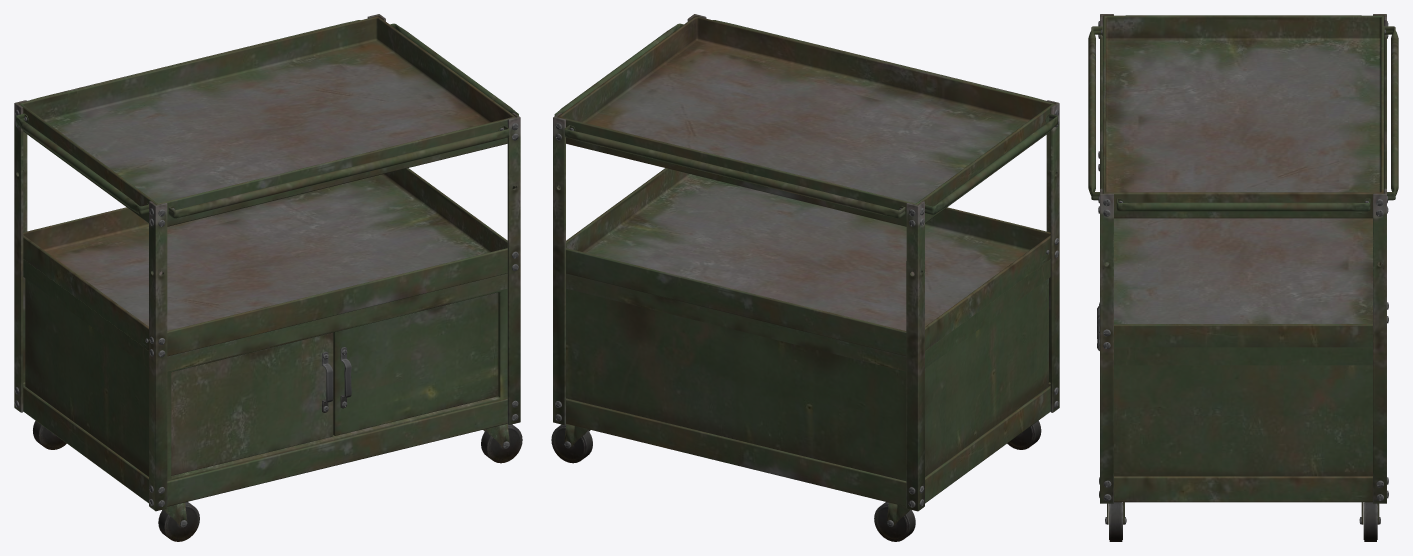
The model's file is storage_cart.glb.
The picture shows the model from 3 angles, left to right: view 1: azimuth 30°, elevation 25°; view 2: azimuth 150°, elevation 25°; view 3: azimuth 270°, elevation 25°; orthographic projection.
Visible parts, largest first — view 1: industrial_storage_cart; view 2: industrial_storage_cart; view 3: industrial_storage_cart.
Boxes of the visible parts, <box> form: industrial_storage_cart: <box>14,14,522,541</box>; industrial_storage_cart: <box>551,14,1059,541</box>; industrial_storage_cart: <box>1088,14,1398,541</box>.
Size of what is drawn, in the model's own units: 1.6 by 1.38 by 1.1.
Materials: 1 (1 with a texture image).
